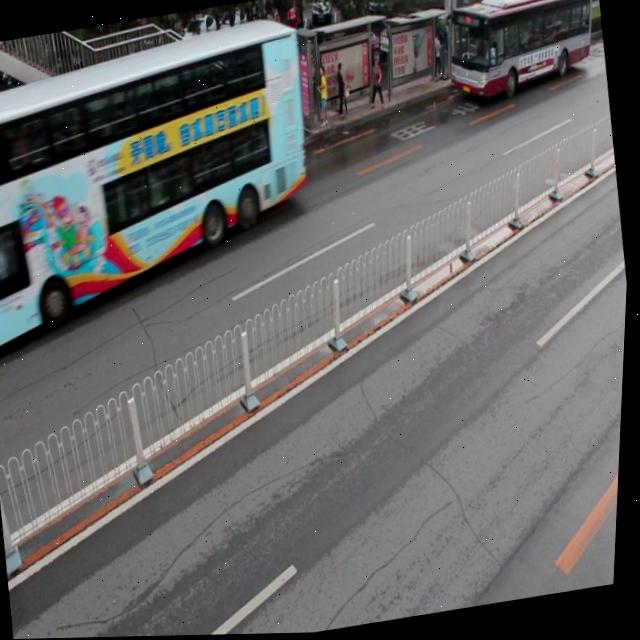car: (79, 82, 179, 154), (0, 109, 79, 189), (247, 32, 328, 98), (178, 51, 251, 121)
van: (0, 18, 329, 329), (441, 0, 602, 106)
